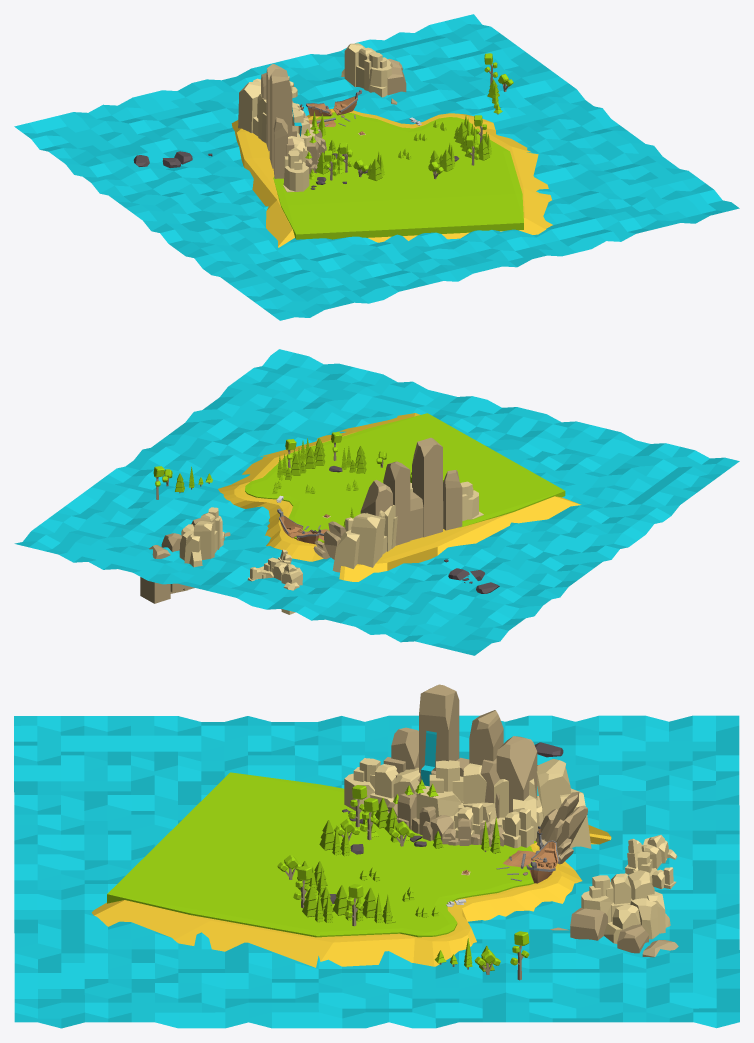
The picture shows the model from 3 angles, top to bottom: view 1: azimuth 30°, elevation 25°; view 2: azimuth 150°, elevation 25°; view 3: azimuth 270°, elevation 25°; orthographic projection. The views are drawn at different scales.
Visible parts, largest first — view 1: Plane.003, Cube.001, Cube, Rock_Wall_07.003, Rock_Wall_06.003, Rock_Wall_06.004, Rock_Wall_06.002, Cube.002, Rock_Wall_06.001, Rock_Wall_07; view 2: Plane.003, Cube.001, Cube, Rock_Wall_07.003, Rock_Wall_06.004, Rock_Wall_06.003, Rock_Wall_07, Rock_Wall_05.003, Cube.002, Rock_Wall_06.002; view 3: Plane.003, Cube.001, Cube, Rock_Wall_07.003, Rock_Wall_06.001, Rock_Wall_06.003, Rock_Wall_06.004, Rock_Wall_06.002, Rock_Wall_07, Rock_Wall_05.003, Rock_Wall_07.004, Rock_Wall_07.002 (+6 smaller).
Part boxes in pixels (x1=…): Plane.003: x1=14, y1=14, x2=739, y2=320; Cube.001: x1=273, y1=112, x2=523, y2=239; Cube: x1=231, y1=108, x2=552, y2=247; Rock_Wall_07.003: x1=261, y1=64, x2=296, y2=178; Rock_Wall_06.003: x1=344, y1=43, x2=391, y2=97; Rock_Wall_06.004: x1=238, y1=82, x2=266, y2=142; Rock_Wall_06.002: x1=283, y1=136, x2=311, y2=192; Cube.002: x1=306, y1=90, x2=362, y2=126; Rock_Wall_06.001: x1=258, y1=98, x2=315, y2=146; Rock_Wall_07: x1=387, y1=58, x2=406, y2=104; Plane.003: x1=14, y1=349, x2=739, y2=655; Cube.001: x1=245, y1=413, x2=565, y2=542; Cube: x1=218, y1=413, x2=581, y2=581; Rock_Wall_07.003: x1=360, y1=437, x2=462, y2=545; Rock_Wall_06.004: x1=332, y1=510, x2=397, y2=572; Rock_Wall_06.003: x1=184, y1=507, x2=224, y2=563; Rock_Wall_07: x1=140, y1=518, x2=230, y2=603; Rock_Wall_05.003: x1=247, y1=549, x2=302, y2=614; Cube.002: x1=277, y1=508, x2=329, y2=544; Rock_Wall_06.002: x1=460, y1=481, x2=483, y2=520; Plane.003: x1=14, y1=715, x2=739, y2=1028; Cube.001: x1=107, y1=772, x2=536, y2=937; Cube: x1=91, y1=825, x2=611, y2=967; Rock_Wall_07.003: x1=383, y1=684, x2=537, y2=818; Rock_Wall_06.001: x1=416, y1=760, x2=536, y2=840; Rock_Wall_06.003: x1=581, y1=870, x2=665, y2=933; Rock_Wall_06.004: x1=462, y1=759, x2=591, y2=848; Rock_Wall_06.002: x1=344, y1=758, x2=420, y2=811; Rock_Wall_07: x1=550, y1=908, x2=678, y2=957; Rock_Wall_05.003: x1=625, y1=835, x2=677, y2=889; Rock_Wall_07.004: x1=535, y1=792, x2=587, y2=855; Rock_Wall_07.002: x1=387, y1=793, x2=453, y2=843.
Bounding box in the file's own units: 3604 × 1064 × 3604.
